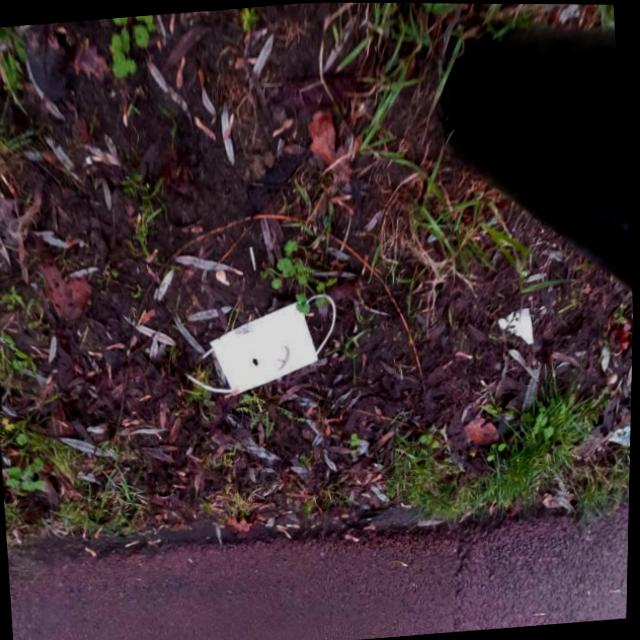Mask: (183, 287, 343, 401)
